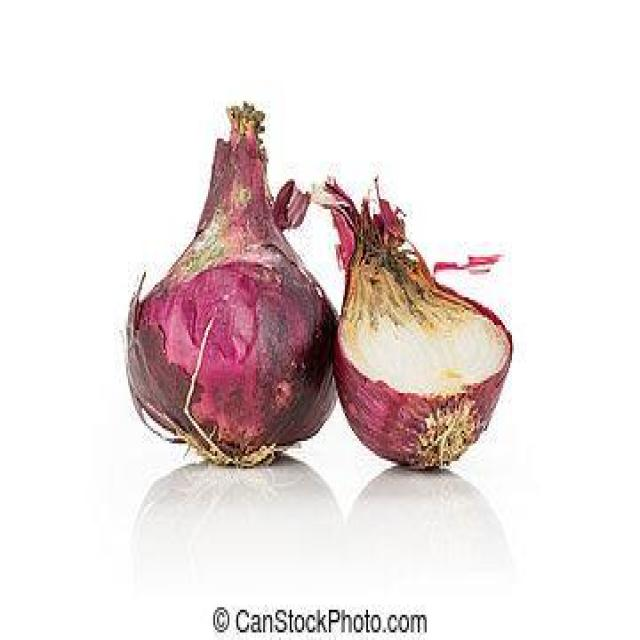Onion: (116, 106, 334, 471), (313, 164, 514, 481)
